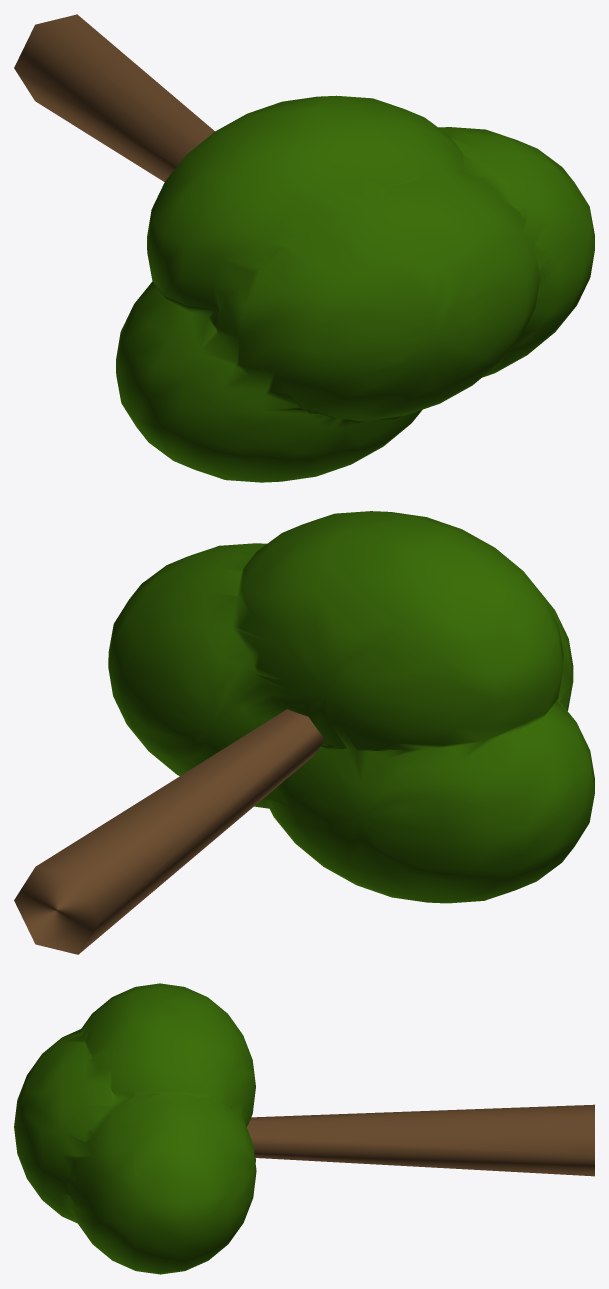
File: tree_2.dae
3 renders of one model, top to bottom at view 1: azimuth 30°, elevation 25°; view 2: azimuth 150°, elevation 25°; view 3: azimuth 270°, elevation 25°, orthographic. The views are drawn at different scales.
Parts seen in each view (by area): view 1: coords_ME_ID3_MA_Color_F16, coords_ME_ID11_MA_Color_C18; view 2: coords_ME_ID3_MA_Color_F16, coords_ME_ID11_MA_Color_C18; view 3: coords_ME_ID3_MA_Color_F16, coords_ME_ID11_MA_Color_C18.
Boxes of the visible parts, bbox=[...] form: coords_ME_ID3_MA_Color_F16: bbox=[116, 95, 594, 482]; coords_ME_ID11_MA_Color_C18: bbox=[14, 14, 214, 181]; coords_ME_ID3_MA_Color_F16: bbox=[108, 511, 594, 903]; coords_ME_ID11_MA_Color_C18: bbox=[14, 709, 324, 954]; coords_ME_ID3_MA_Color_F16: bbox=[14, 983, 256, 1274]; coords_ME_ID11_MA_Color_C18: bbox=[247, 1104, 594, 1176].
Bounding box in the file's own units: 55.72 × 41.04 × 83.45.
